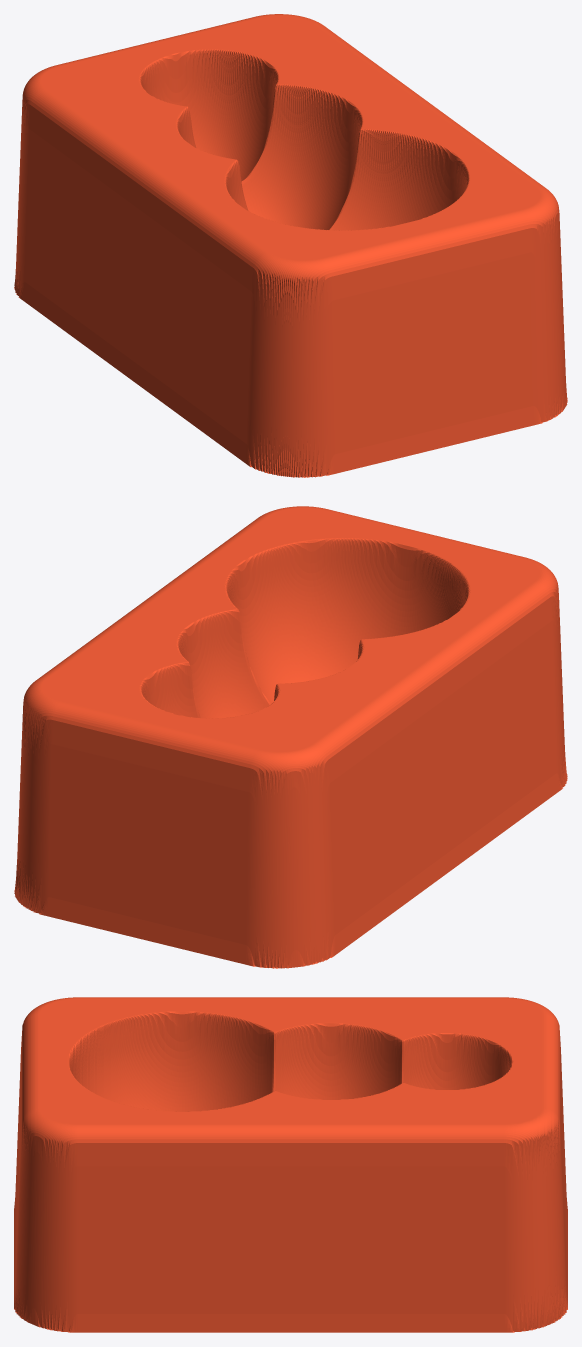
The model's file is mold.glb.
3 renders of one model, top to bottom at view 1: azimuth 30°, elevation 25°; view 2: azimuth 150°, elevation 25°; view 3: azimuth 270°, elevation 25°, orthographic. The views are drawn at different scales.
Visible parts, largest first — view 1: geometry_0; view 2: geometry_0; view 3: geometry_0.
Part boxes in pixels (x1=…): geometry_0: x1=14, y1=14, x2=567, y2=477; geometry_0: x1=14, y1=506, x2=567, y2=968; geometry_0: x1=14, y1=997, x2=567, y2=1332.
Bounding box in the file's own units: 0.0494 × 0.031 × 0.0788.
